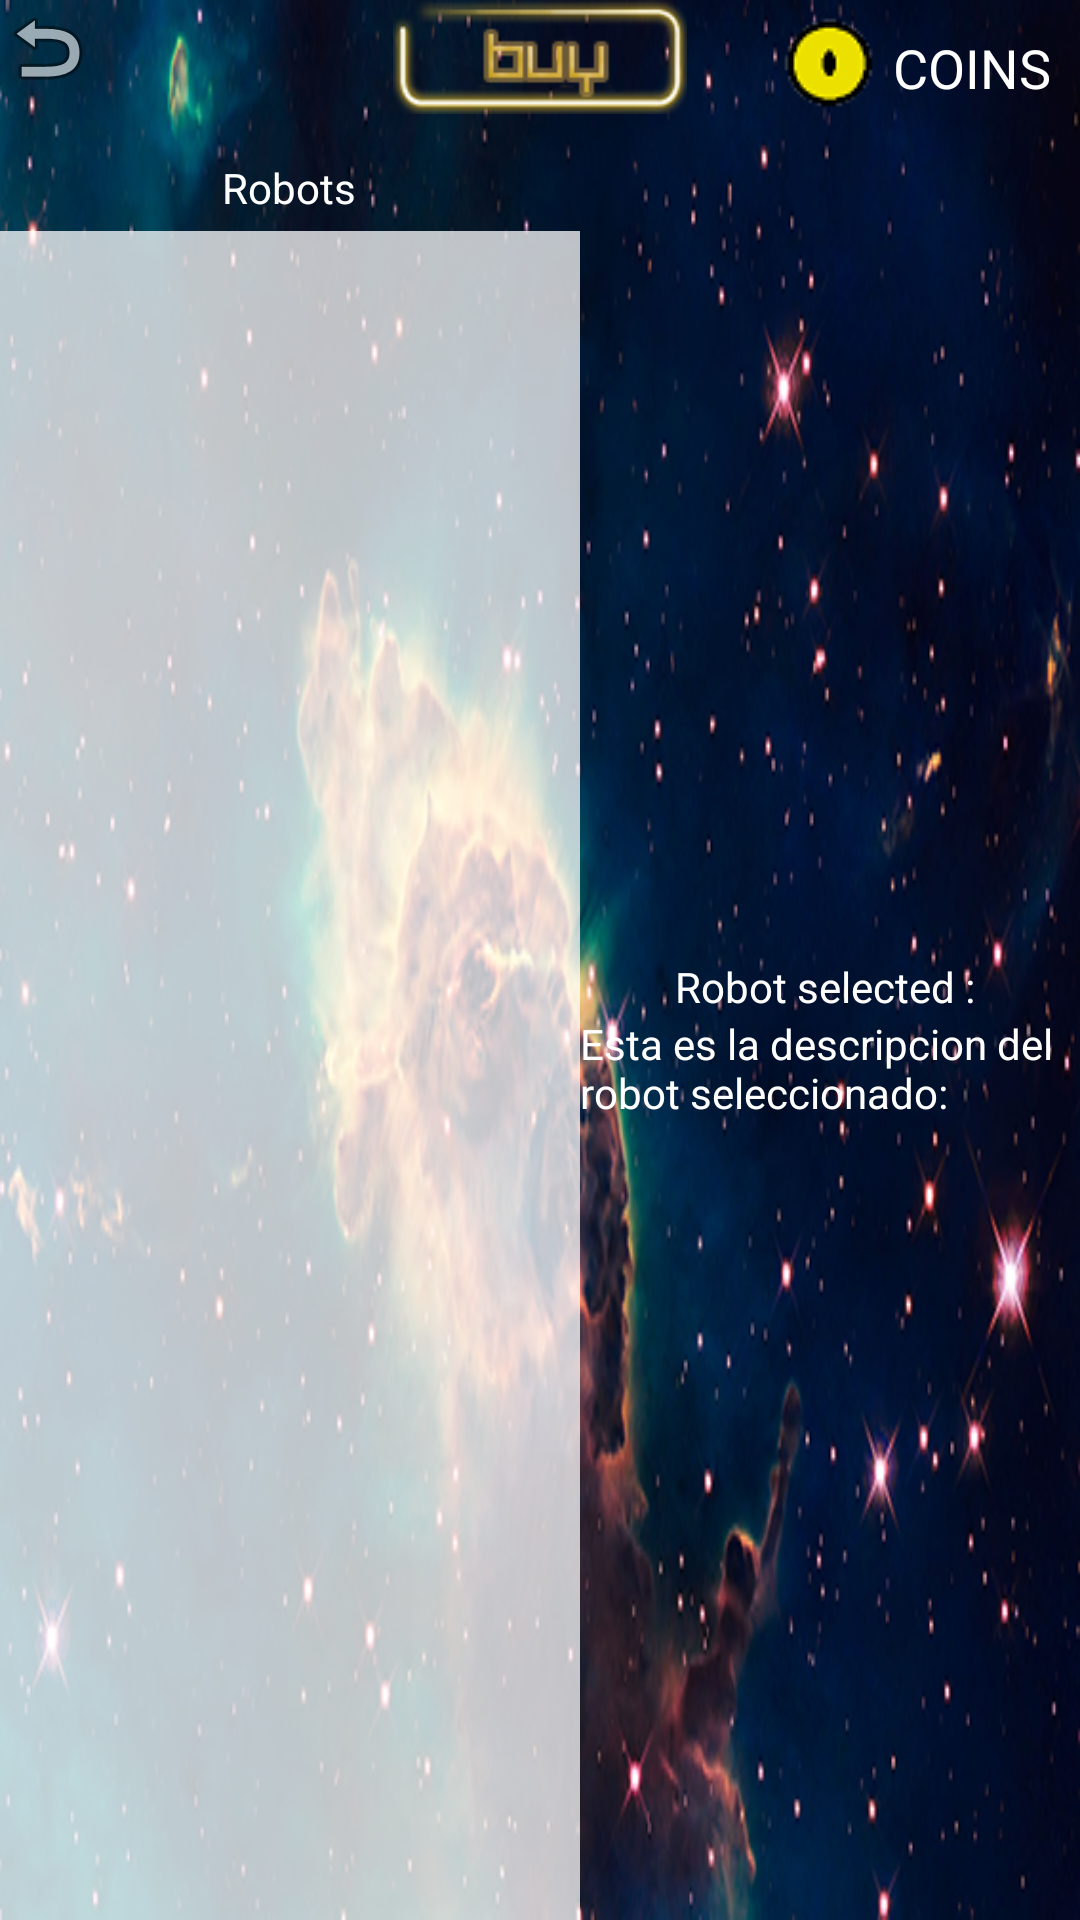

Icon bounding boxes for this 1080x1920 phone screenshot, format {"left": x1, "top": y1, "right": x2, "bottom": y2}:
Back: {"left": 5, "top": 0, "right": 82, "bottom": 80}
